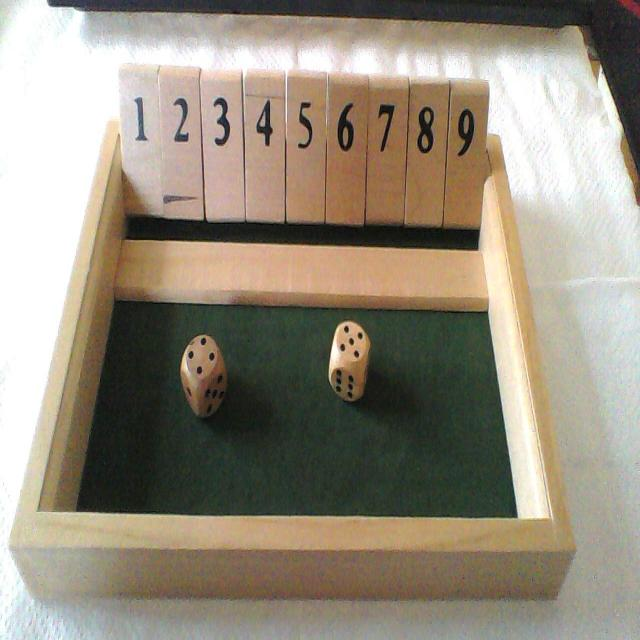4: (178, 325, 226, 395)
5: (330, 316, 372, 369)
O1: (115, 66, 159, 303)
O2: (162, 65, 202, 303)
O3: (203, 72, 243, 305)
O4: (246, 70, 285, 306)
O5: (288, 70, 326, 306)
O6: (327, 71, 368, 309)
O7: (368, 75, 408, 309)
O8: (406, 77, 448, 310)
O9: (445, 79, 489, 310)
